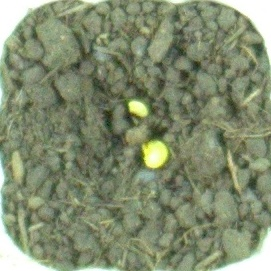pepper seed: (54, 54, 224, 224), (52, 40, 201, 158)
